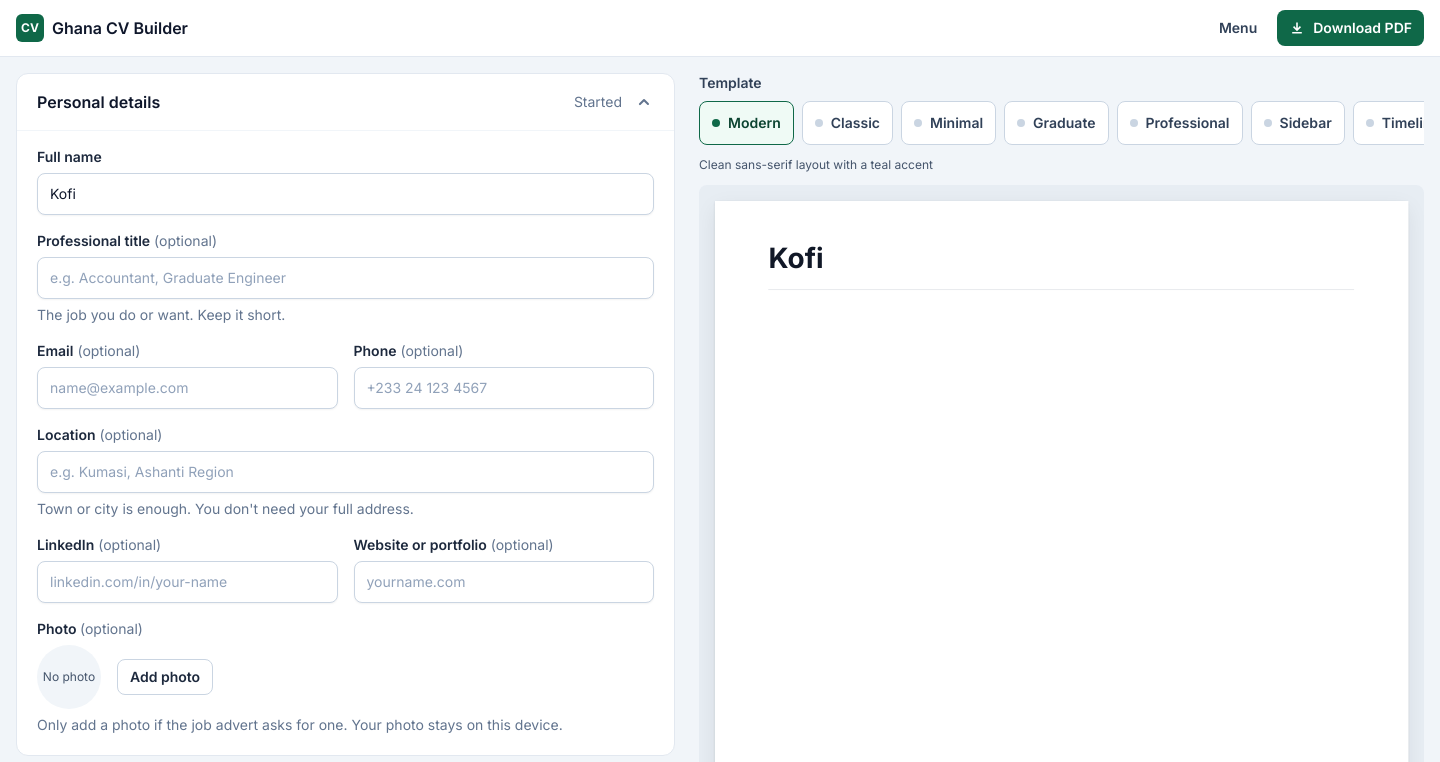
Test: Builder › starts a new CV only after confirmation
The width and height of the screenshot is (1440, 762).
Check: the field labelled "Full name" is shown, box [37,173,654,215]
Click the button "Menu" at [1238, 28], box [1207,10,1269,46]
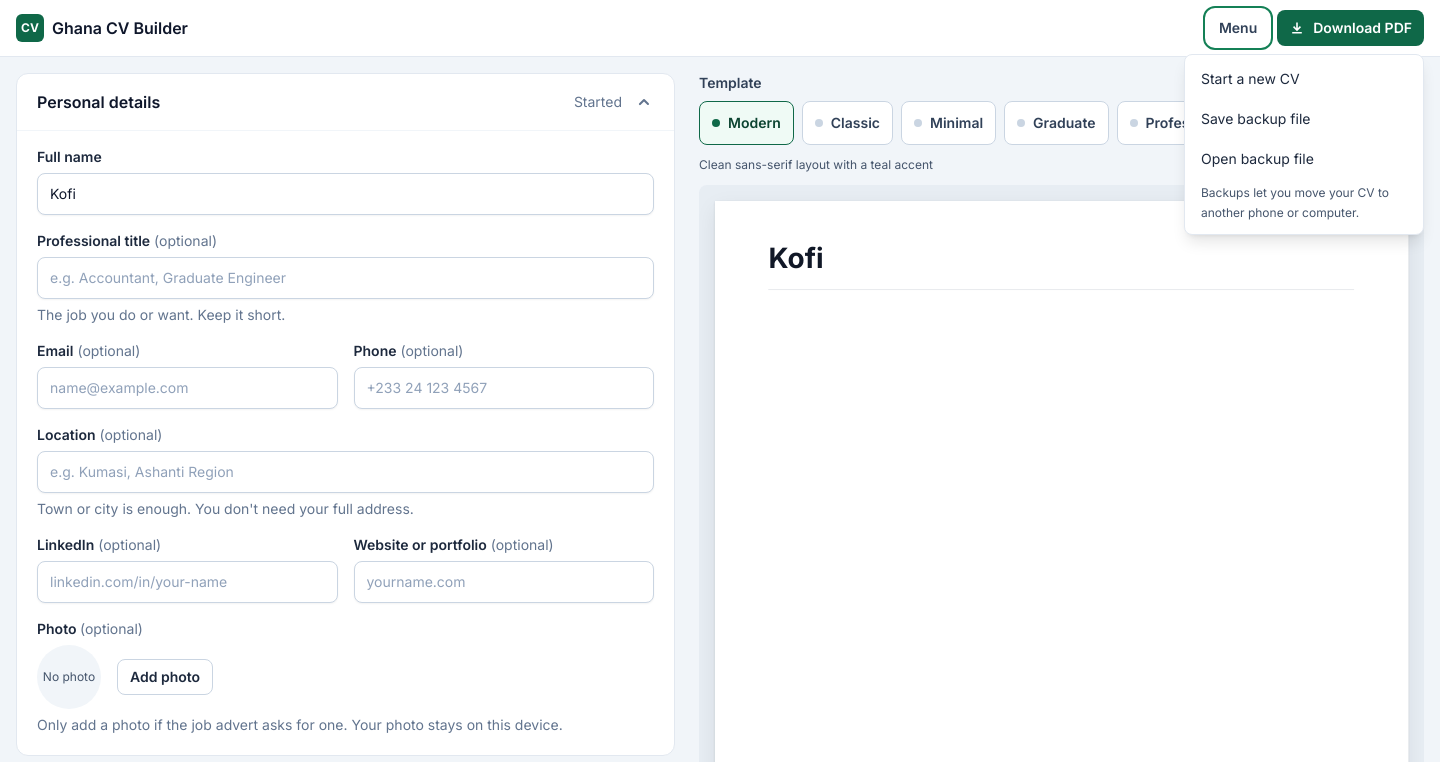
Click the button "Start a new CV" at [1304, 79], box [1189,59,1419,99]
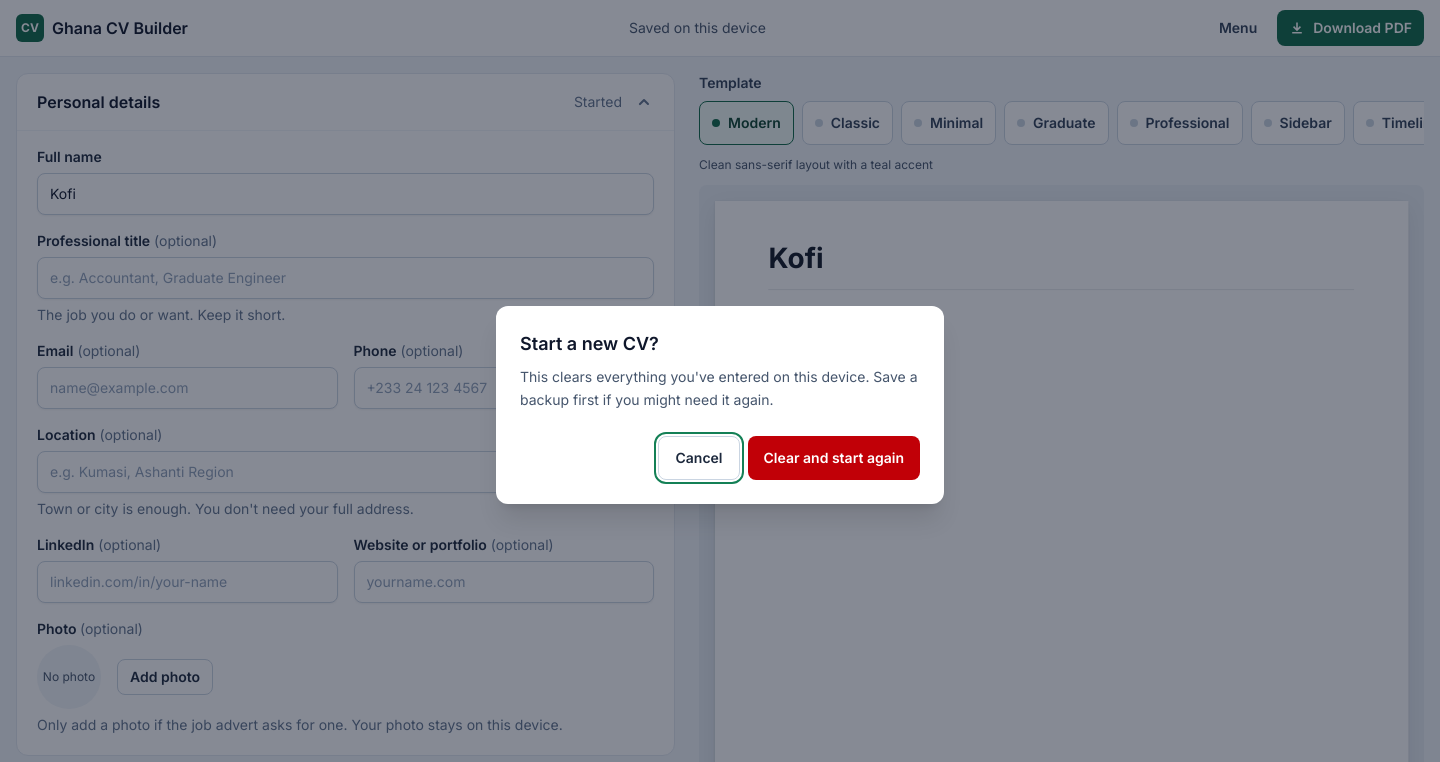
Click the button "Clear and start again" at [834, 458], box [748,436,920,480]
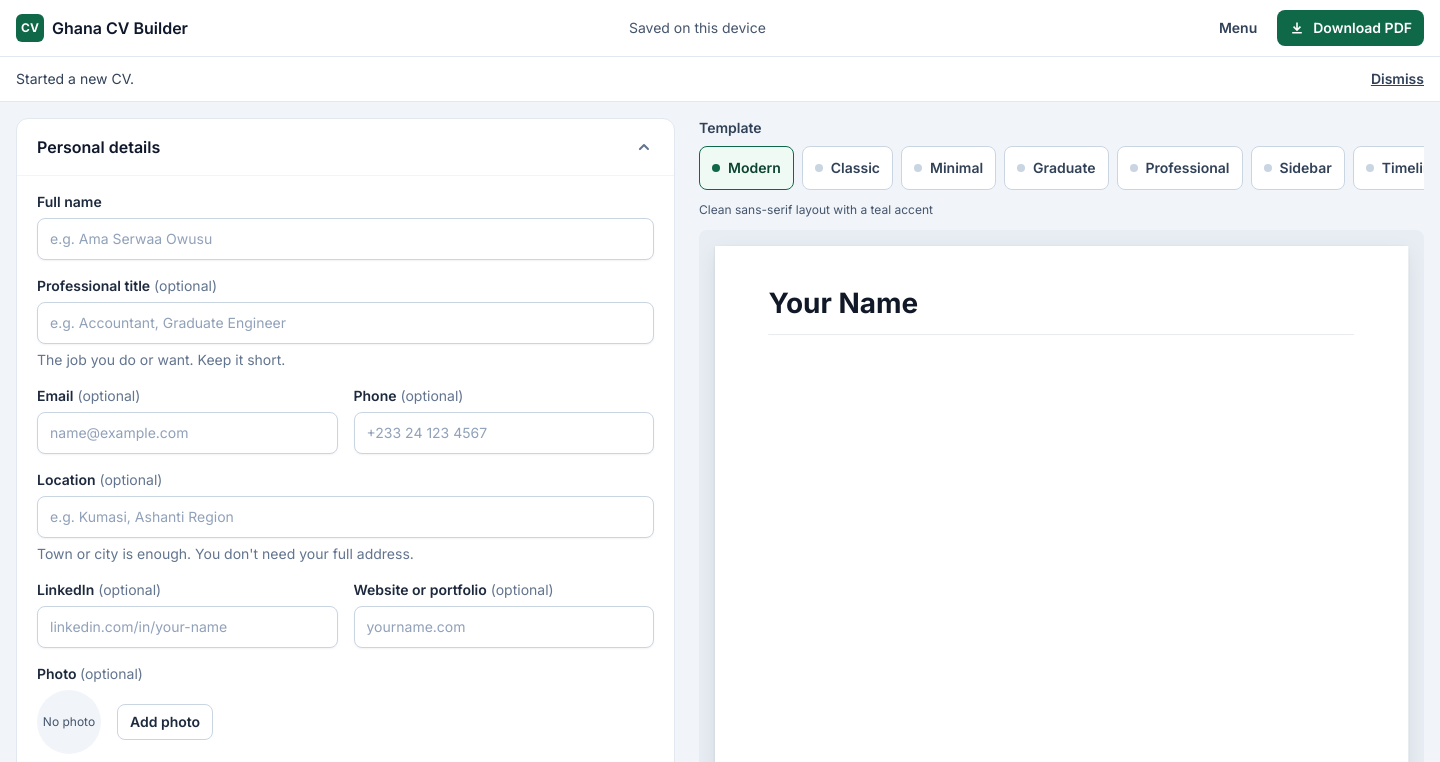
Check: the field labelled "Full name" is empty, box [37,218,654,260]
